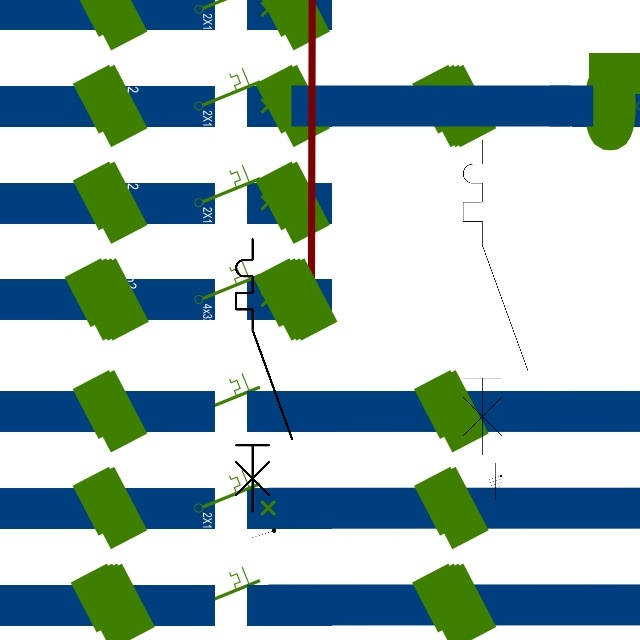interruptor_termomagnetico: (455, 132, 536, 462), (229, 232, 299, 518)
